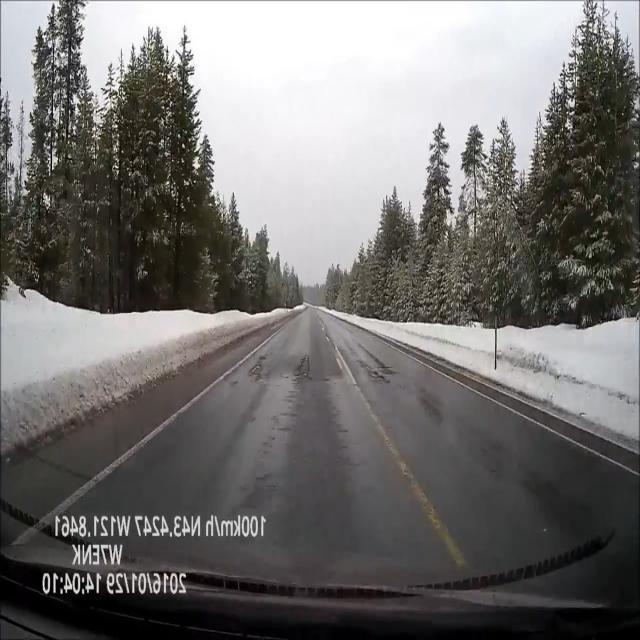pothole: (247, 343, 269, 387), (293, 349, 313, 390)
